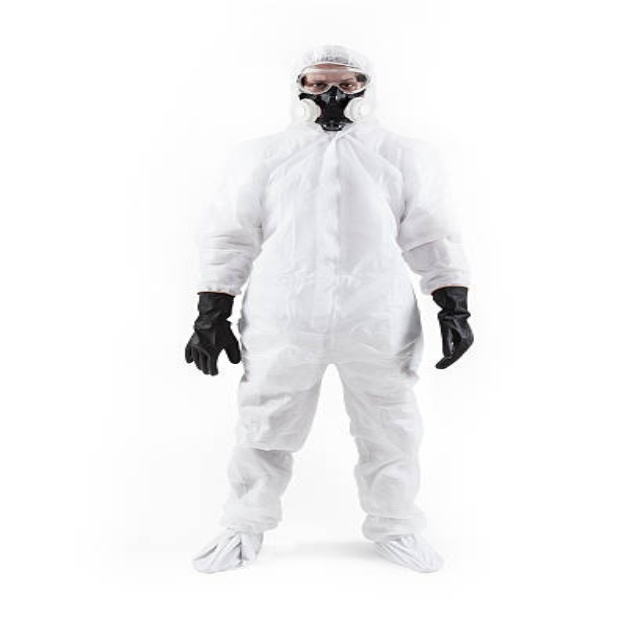Gafas: (298, 75, 368, 96)
Guantes: (185, 293, 241, 377), (432, 287, 474, 371)
Mascara: (298, 85, 365, 132)
